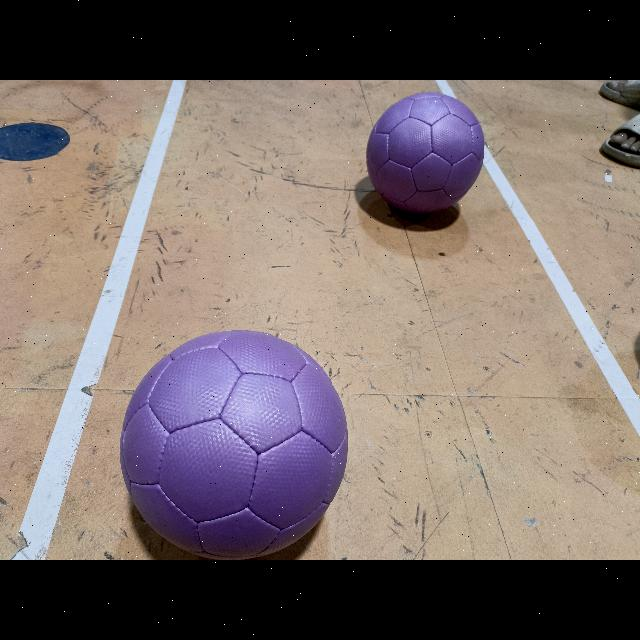P: (120, 330, 348, 560), (366, 92, 486, 214)
